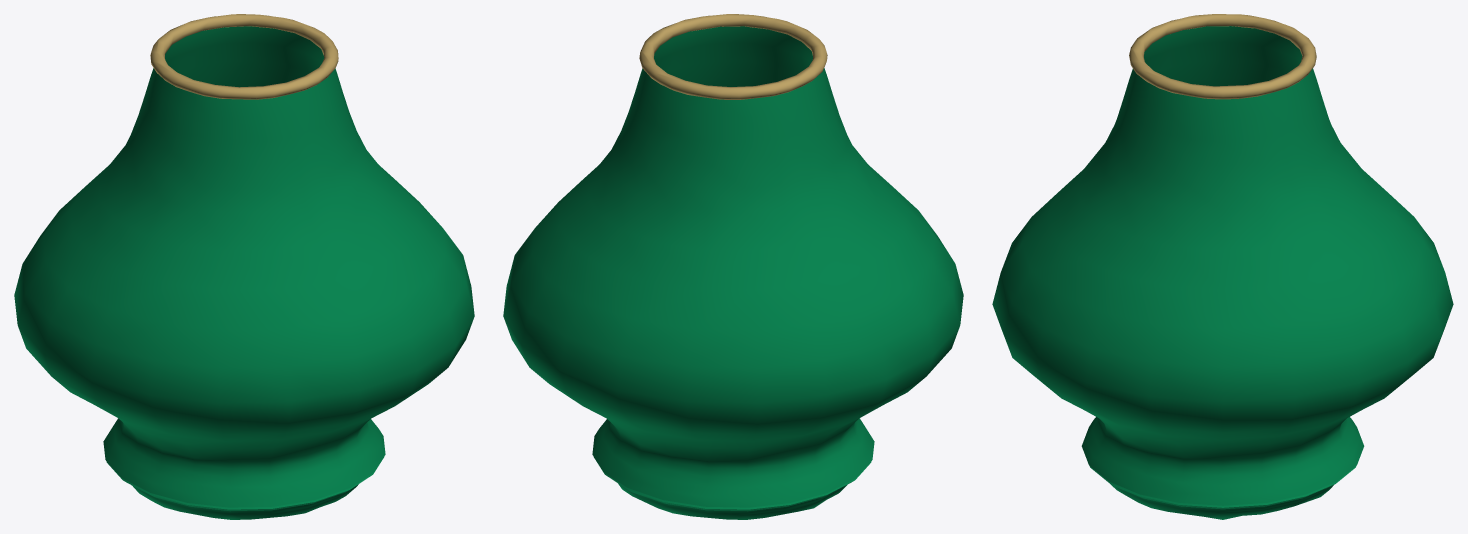
3 views of the same model, side by side, from view 1: azimuth 30°, elevation 25°; view 2: azimuth 150°, elevation 25°; view 3: azimuth 270°, elevation 25° (orthographic).
Visible parts, largest first — view 1: 2541012; view 2: 2541012; view 3: 2541012.
Part boxes in pixels (x1,y1,x2,y2): 2541012: (14, 14, 474, 519); 2541012: (503, 14, 963, 519); 2541012: (992, 14, 1453, 519).
Bounding box in the file's own units: 100 × 100 × 100.
